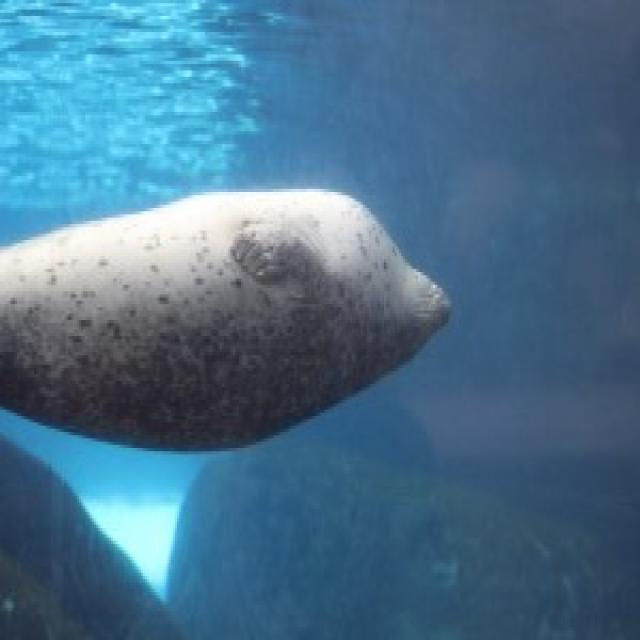Seal: (6, 142, 450, 498)
